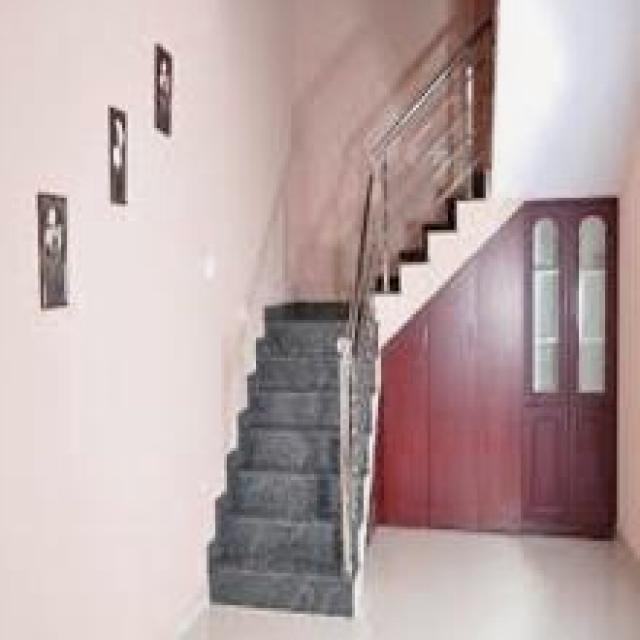upstair: (205, 394, 356, 592)
